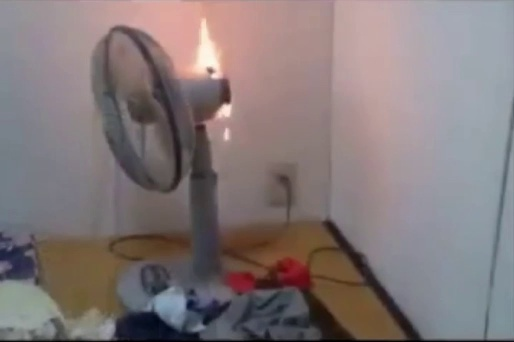fire: (192, 22, 227, 86)
